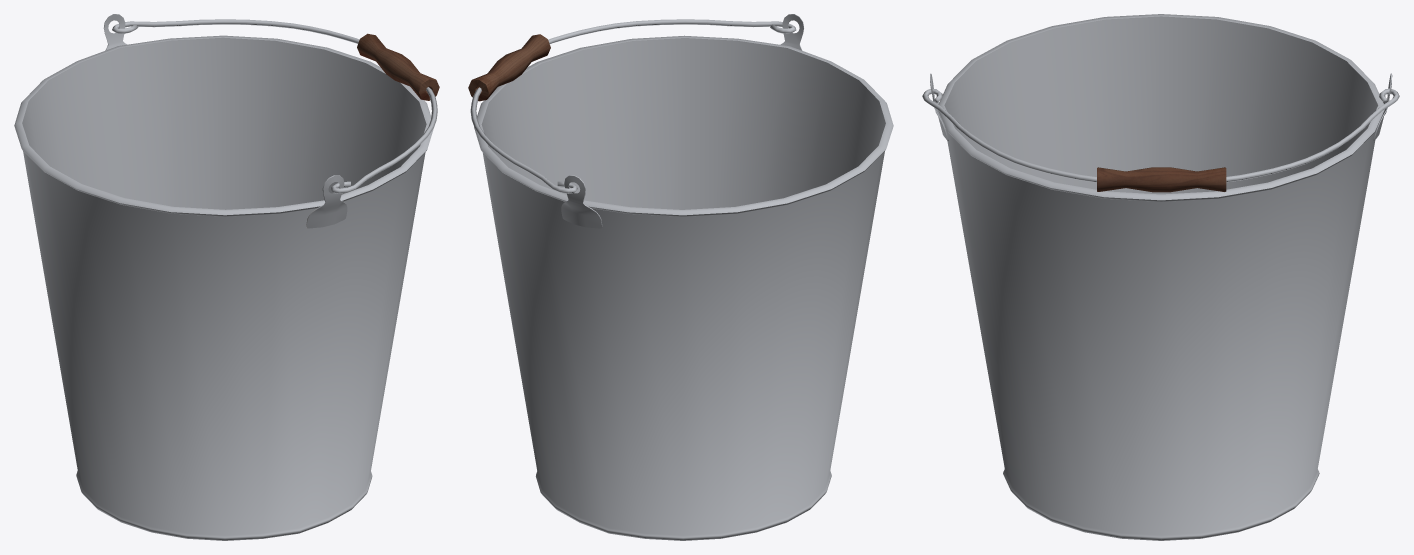
3 views of the same model, side by side, from view 1: azimuth 30°, elevation 25°; view 2: azimuth 150°, elevation 25°; view 3: azimuth 270°, elevation 25° (orthographic). The views are drawn at different scales.
Visible parts, largest first — view 1: bucket_LP, ruchka_metall_lp, ruchka_lp, ring_02_lp001; view 2: bucket_LP, ruchka_metall_lp, ruchka_lp, ring_02_lp002; view 3: bucket_LP, ruchka_lp, ruchka_metall_lp.
Boxes of the visible parts, box(x1,y1,x2,y2) form: bucket_LP: box(14, 35, 433, 540); ruchka_metall_lp: box(112, 19, 437, 193); ruchka_lp: box(357, 33, 439, 100); ring_02_lp001: box(306, 175, 347, 228); bucket_LP: box(474, 35, 893, 540); ruchka_metall_lp: box(470, 19, 796, 193); ruchka_lp: box(468, 34, 550, 101); ring_02_lp002: box(561, 175, 602, 228); bucket_LP: box(938, 14, 1384, 540); ruchka_lp: box(1097, 167, 1226, 192); ruchka_metall_lp: box(922, 88, 1399, 182).
Bounding box in the file's own units: 36.28 × 36.38 × 39.2.
Materials: 1 (1 with a texture image).
